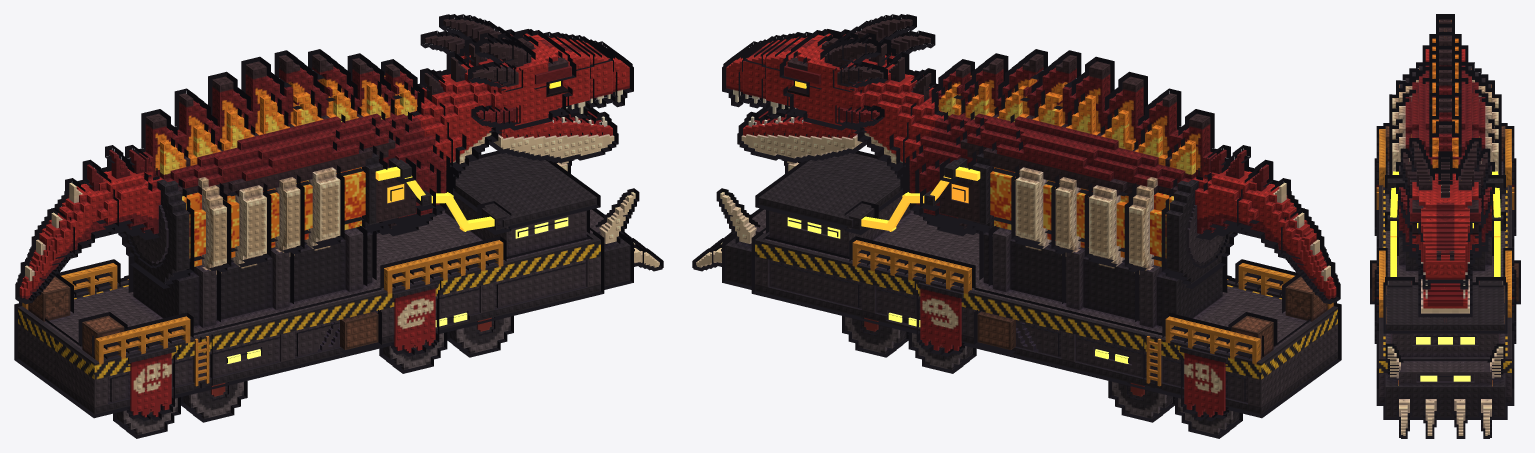
The model's file is fire_dragon.glb.
The picture shows the model from 3 angles, left to right: view 1: azimuth 30°, elevation 25°; view 2: azimuth 150°, elevation 25°; view 3: azimuth 270°, elevation 25°; orthographic projection. The views are drawn at different scales.
Parts seen in each view (by area): view 1: Wagon, Body, Head, Neck, Jaw, Tail1, Lava, Tail2, Tail3; view 2: Wagon, Body, Head, Neck, Jaw, Tail1, Lava, Tail2, Tail3; view 3: Wagon, Body, Head, Jaw, Tail1, PipeL4, PipeR4, PipeL2, PipeR2.
Boxes of the visible parts, <box> form: Wagon: <box>14,151,663,438</box>; Body: <box>118,49,511,327</box>; Head: <box>420,14,633,142</box>; Neck: <box>417,52,495,178</box>; Jaw: <box>489,107,618,162</box>; Tail1: <box>96,145,163,241</box>; Lava: <box>182,167,365,269</box>; Tail2: <box>51,159,118,259</box>; Tail3: <box>15,208,74,304</box>; Wagon: <box>692,151,1341,438</box>; Body: <box>844,49,1237,327</box>; Head: <box>722,14,935,142</box>; Neck: <box>860,52,938,178</box>; Jaw: <box>737,107,866,162</box>; Tail1: <box>1192,145,1259,241</box>; Lava: <box>990,167,1173,269</box>; Tail2: <box>1237,159,1304,259</box>; Tail3: <box>1281,208,1340,304</box>; Wagon: <box>1370,123,1520,438</box>; Body: <box>1385,14,1505,287</box>; Head: <box>1396,138,1494,289</box>; Jaw: <box>1418,253,1472,317</box>; Tail1: <box>1422,45,1468,61</box>; PipeL4: <box>1494,233,1500,269</box>; PipeR4: <box>1390,233,1396,269</box>; PipeL2: <box>1493,187,1500,217</box>; PipeR2: <box>1390,187,1397,217</box>.
Bounding box in the file's own units: 44.68 × 21.48 × 10.88.
Materials: 7 (3 with a texture image).
